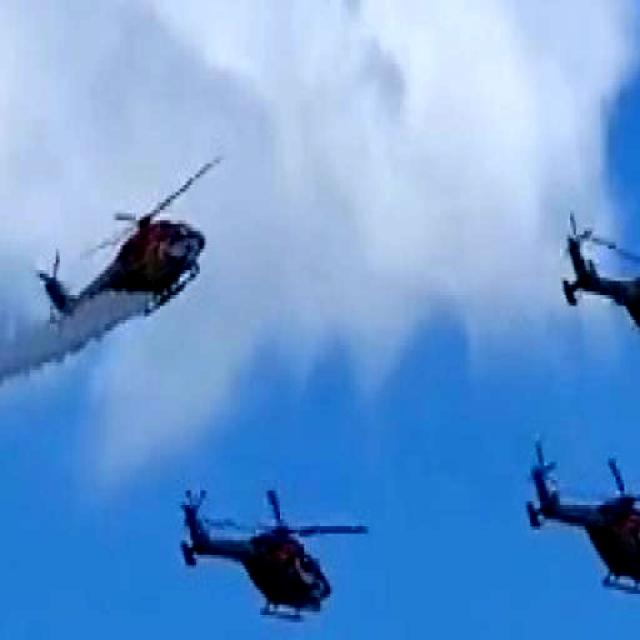drone: (34, 146, 224, 329), (171, 472, 355, 640), (521, 428, 640, 611), (568, 199, 640, 379)
